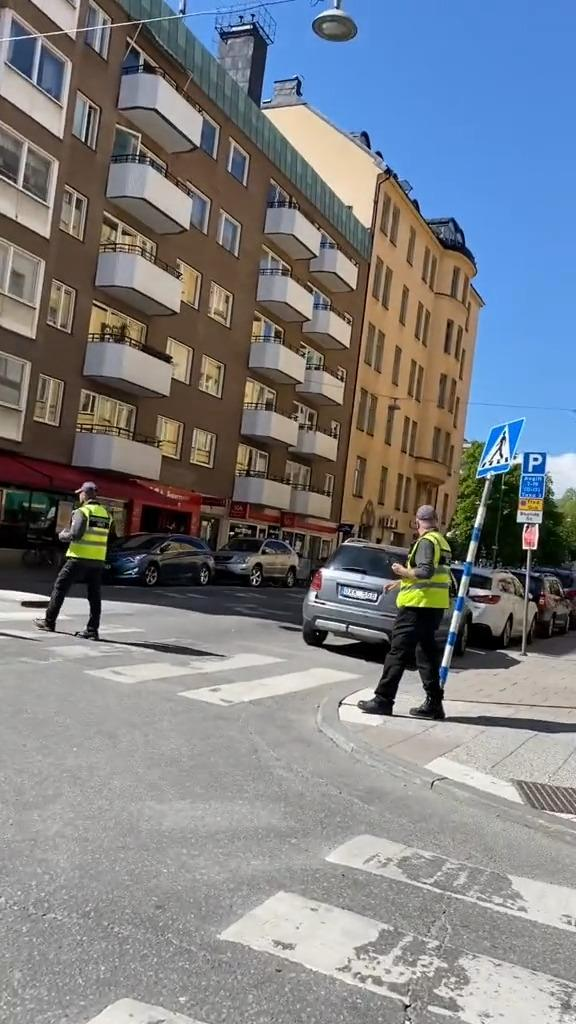parking-attendant: (358, 505, 451, 719), (35, 482, 111, 639)
